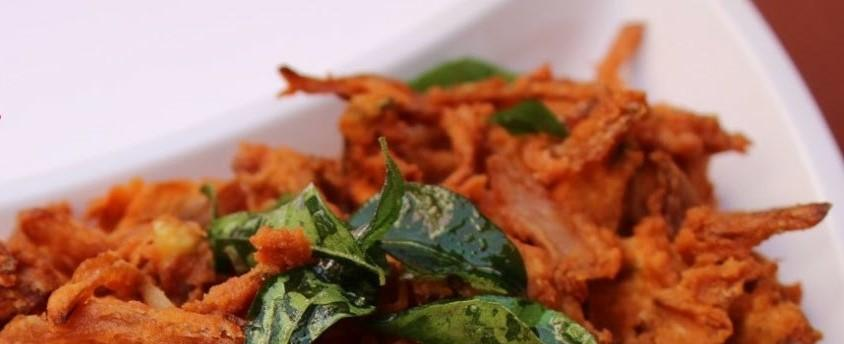OnionPakoda: (3, 20, 833, 344)
